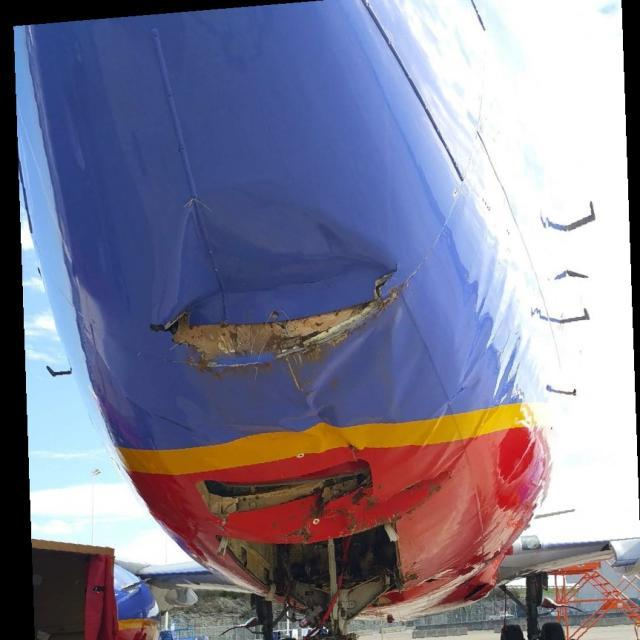crack: (369, 265, 404, 296)
dent: (163, 190, 395, 314), (307, 325, 375, 415)
